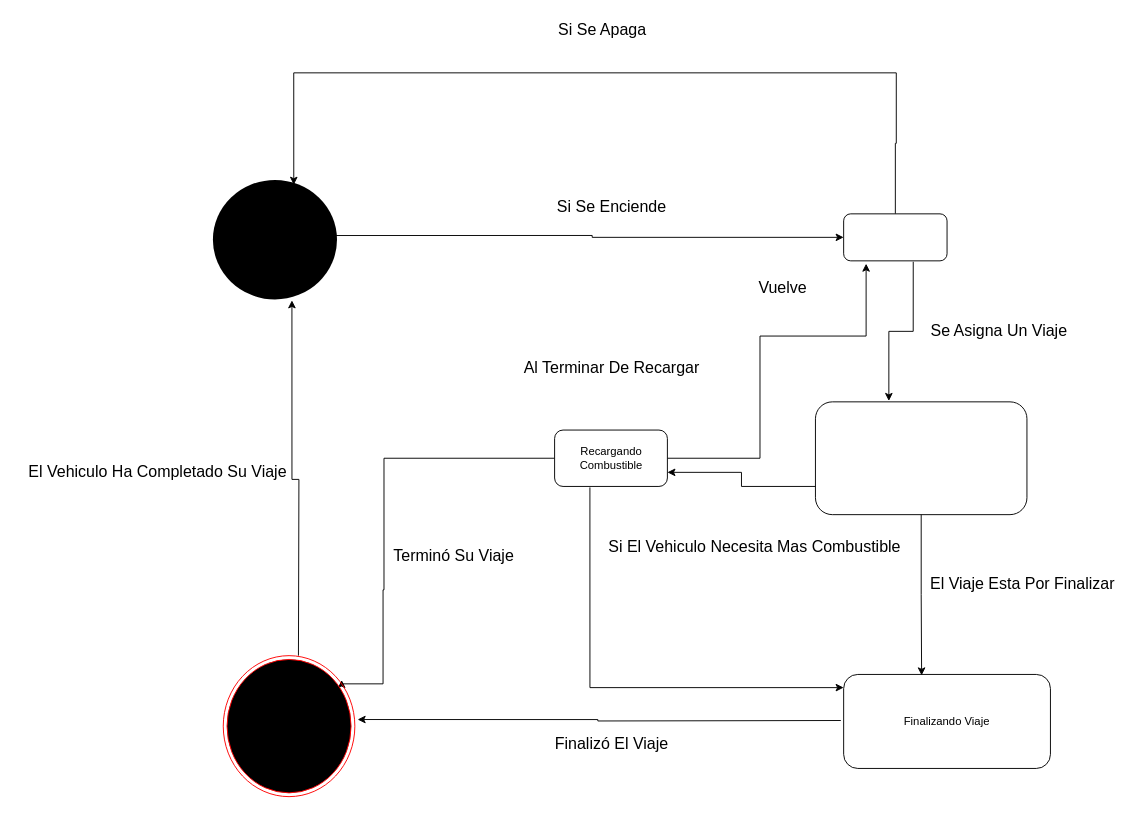
This 1141x813 diagram has some shape labels left out. The shapes that lost their labels are listed below. From the top down, each one's centre as x and y in pixels, then its label:
the point at 895,237: Esperando Un Viaje
the point at 921,458: En Movimiento
